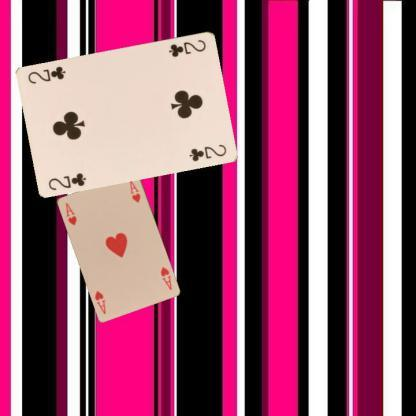2c: (166, 36, 208, 58), (45, 170, 87, 192)
Ah: (63, 199, 78, 226), (158, 264, 172, 291)
